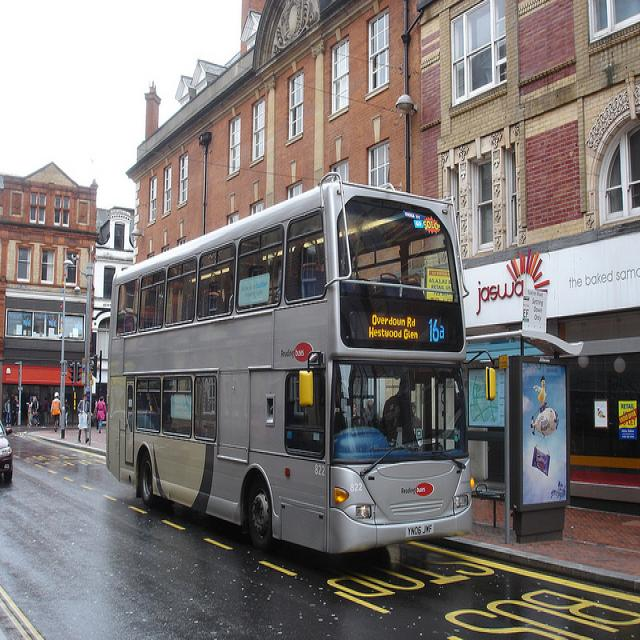Vehicle: (102, 175, 471, 561), (0, 414, 14, 480)
